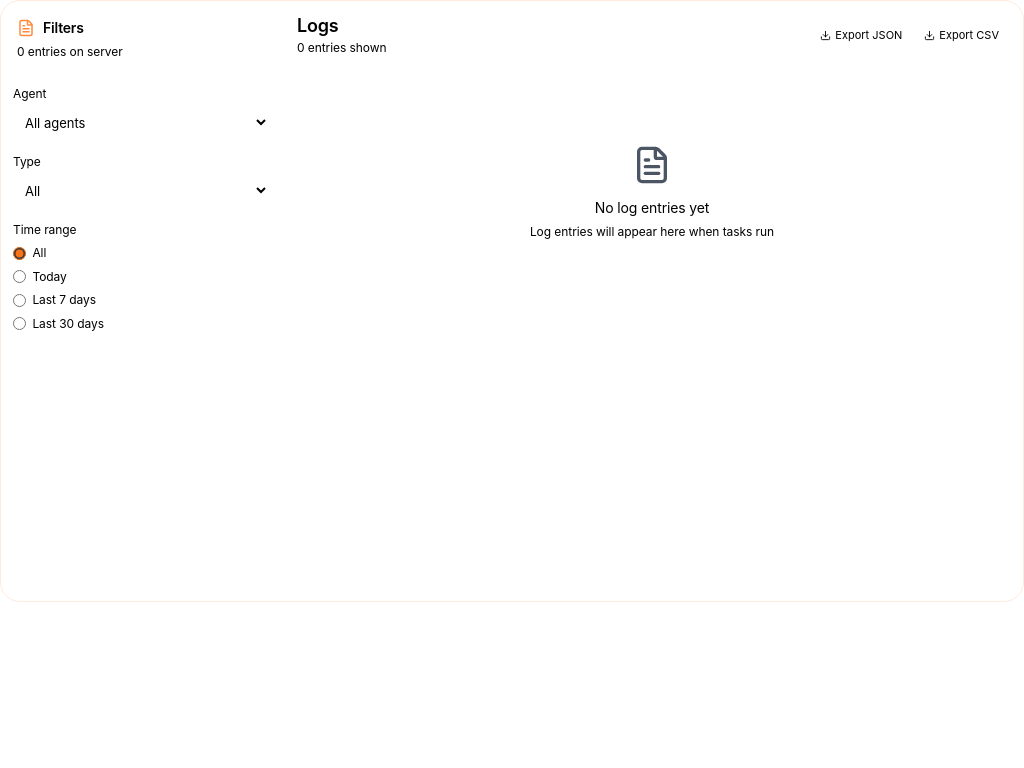
Test: LogViewer › filters › clears filters when Clear filters is clicked
The image size is (1024, 768).
Select "task" in the dropdown labelled "Type": point(141, 191) [13, 176, 269, 205]
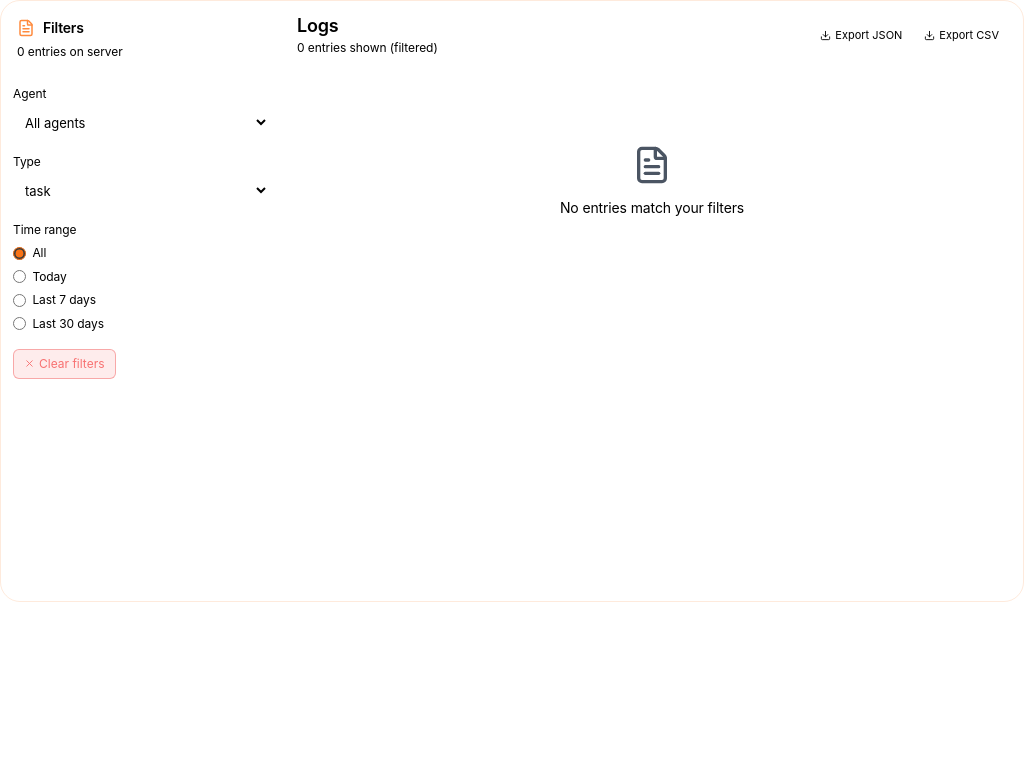
Click the button "Clear filters": point(64, 364) [13, 349, 116, 378]
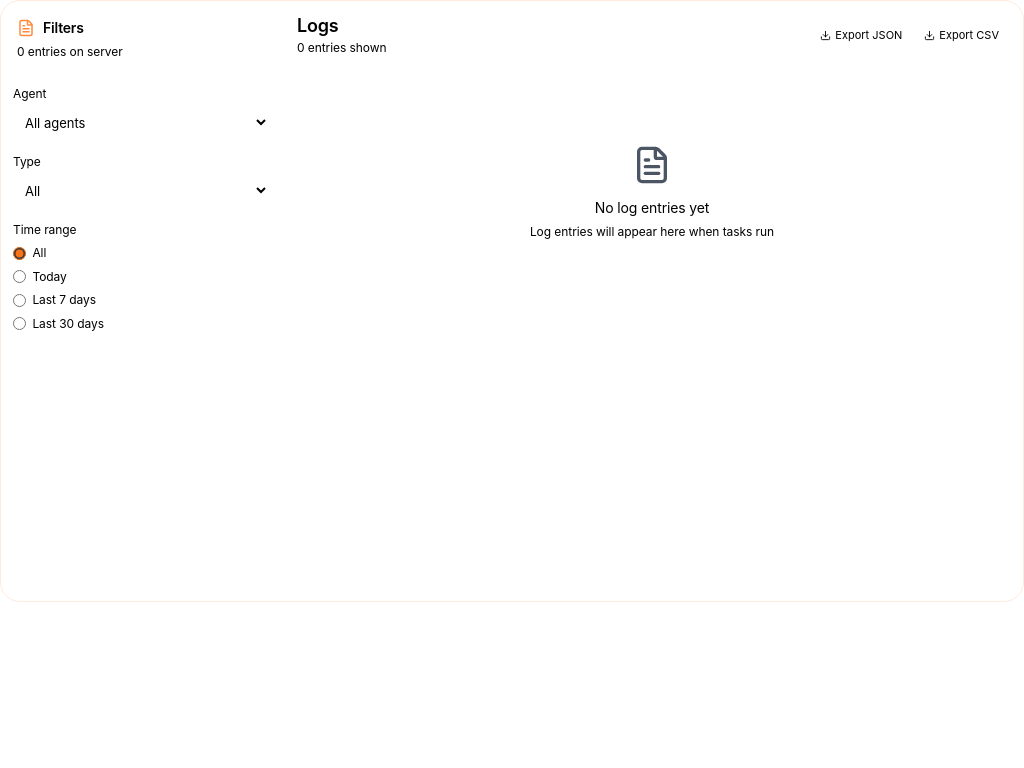
Expected: the button "Clear filters" is gone
